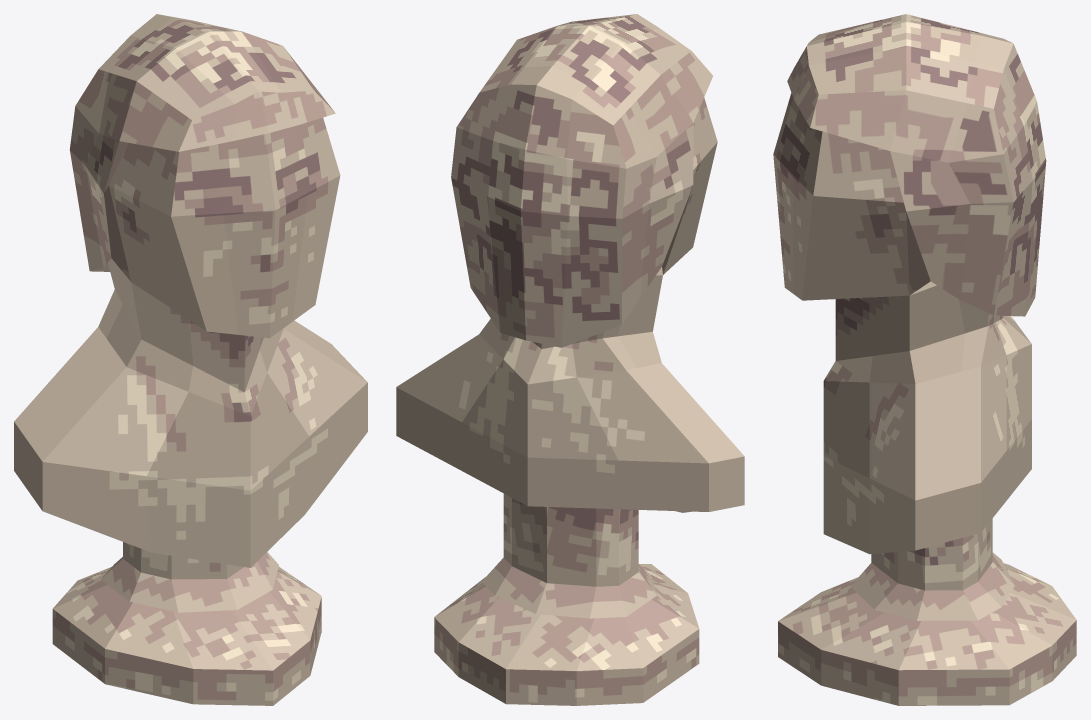
File: Bust1.fbx
The picture shows the model from 3 angles, left to right: view 1: azimuth 30°, elevation 25°; view 2: azimuth 150°, elevation 25°; view 3: azimuth 270°, elevation 25°; orthographic projection. The views are drawn at different scales.
Visible parts, largest first — view 1: Cube.105; view 2: Cube.105; view 3: Cube.105.
Boxes of the visible parts, x1,y1,x2,y2 form: Cube.105: [14, 14, 367, 705]; Cube.105: [396, 14, 744, 705]; Cube.105: [773, 14, 1076, 705].
Size of the model in its own units: 34.01 by 62.73 by 27.16.
